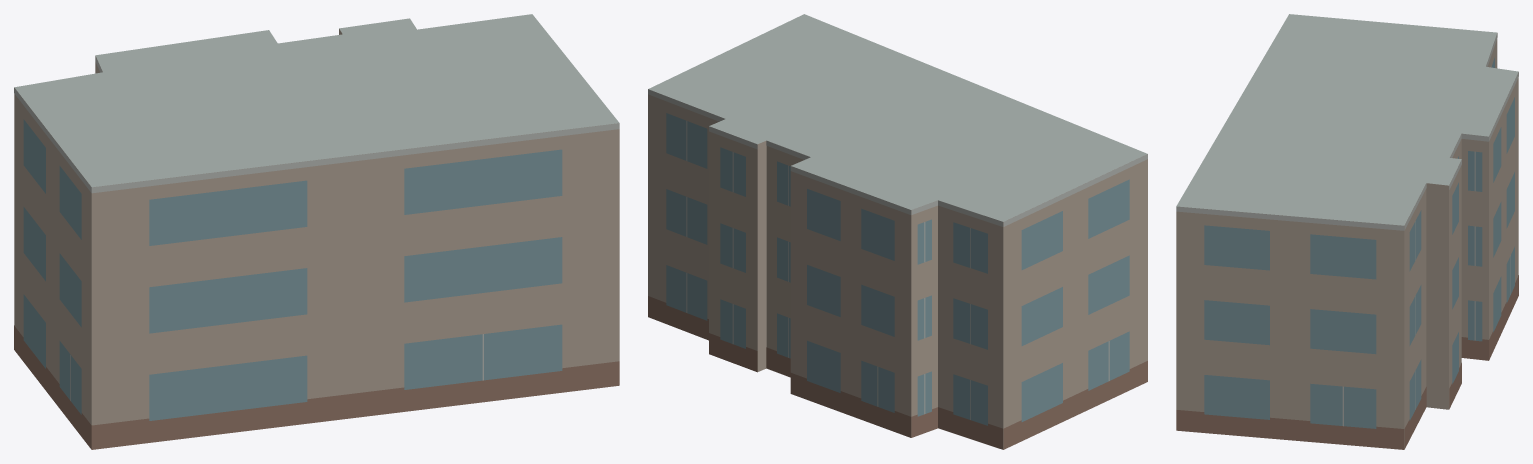
File: survey-upis-32491608.glb
3 views of the same model, side by side, from view 1: azimuth 30°, elevation 25°; view 2: azimuth 150°, elevation 25°; view 3: azimuth 270°, elevation 25° (orthographic). The views are drawn at different scales.
Parts seen in each view (by area): view 1: survey-upis-32491608.tmp; view 2: survey-upis-32491608.tmp; view 3: survey-upis-32491608.tmp.
Part boxes in pixels (x1=…): survey-upis-32491608.tmp: x1=14, y1=14, x2=619, y2=449; survey-upis-32491608.tmp: x1=648, y1=14, x2=1147, y2=449; survey-upis-32491608.tmp: x1=1176, y1=14, x2=1518, y2=449.
Bounding box in the file's own units: 21.68 × 10.7 × 14.83.
